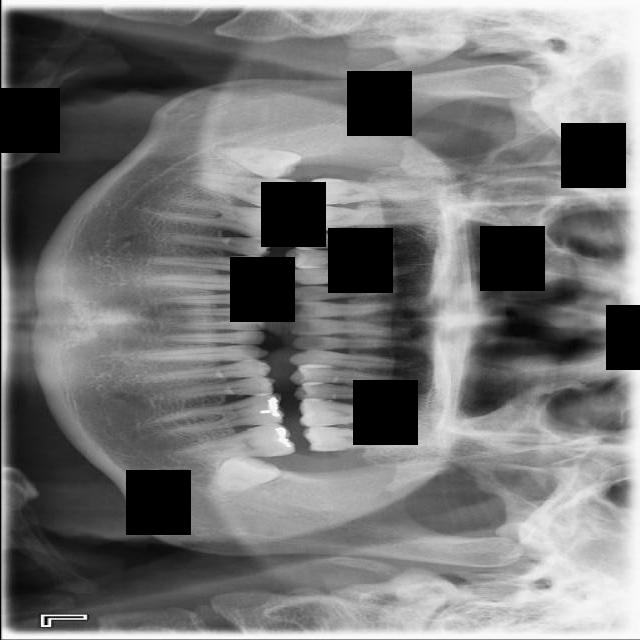52: (243, 417, 296, 464), (235, 201, 288, 245), (237, 177, 296, 211), (233, 391, 285, 429), (286, 228, 341, 254), (287, 363, 345, 387), (283, 247, 337, 270), (292, 381, 344, 402), (227, 236, 272, 257), (231, 377, 275, 397), (223, 360, 271, 378)
BioHorizons Implant: (302, 424, 447, 452)
Biomet 3i Implant: (204, 450, 282, 497)
Blue Sky Bio Implant: (171, 421, 296, 462)
Caries: (301, 177, 446, 206)
Implant: (179, 170, 298, 212)
Keystone Dental Implant: (212, 137, 302, 185)
